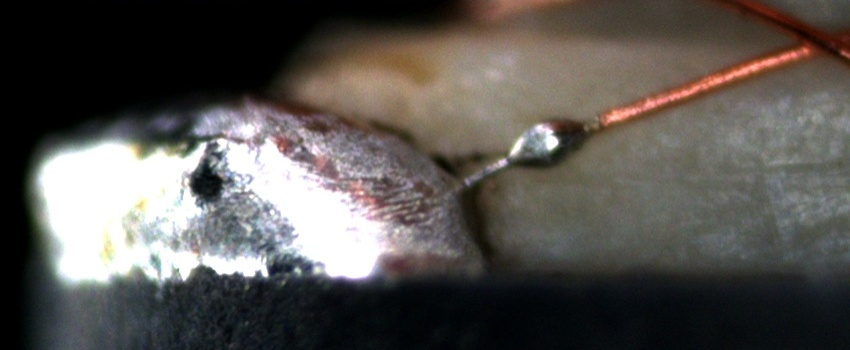CL: (769, 16, 843, 68)
DL: (626, 140, 843, 196)
TB: (509, 107, 589, 176)
TS: (461, 116, 600, 186)
TTCW: (464, 93, 646, 195)
